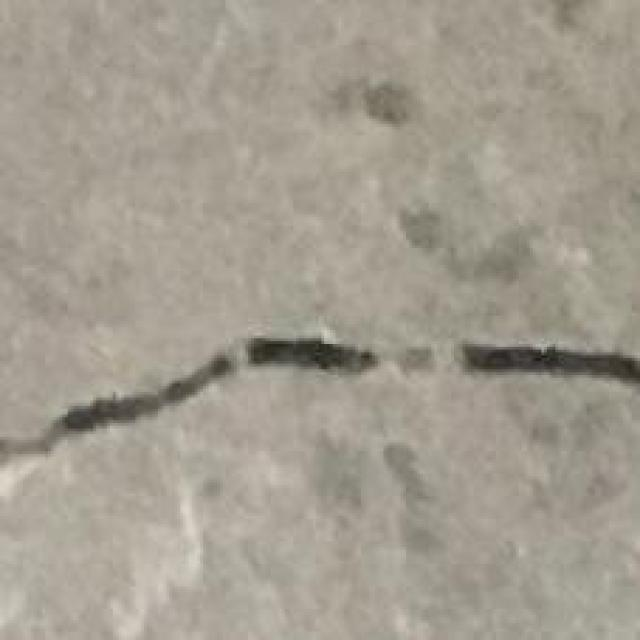Transverse: (8, 289, 640, 437)
